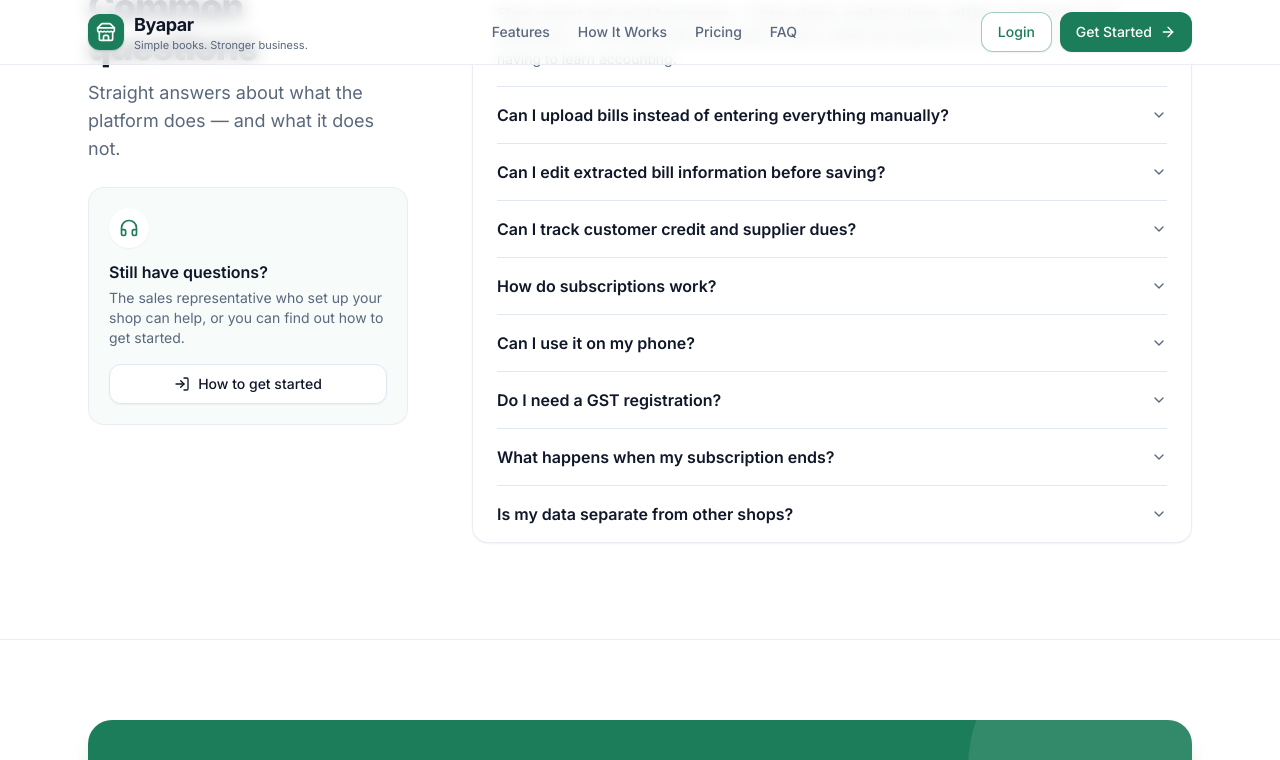
the FAQ accordion › expands an answer, and wires the button to its region
(page scrolled)
Step 1. Click the button "Do I need a GST registration?" → (609, 400), box [497, 372, 1167, 428]
(page scrolled)
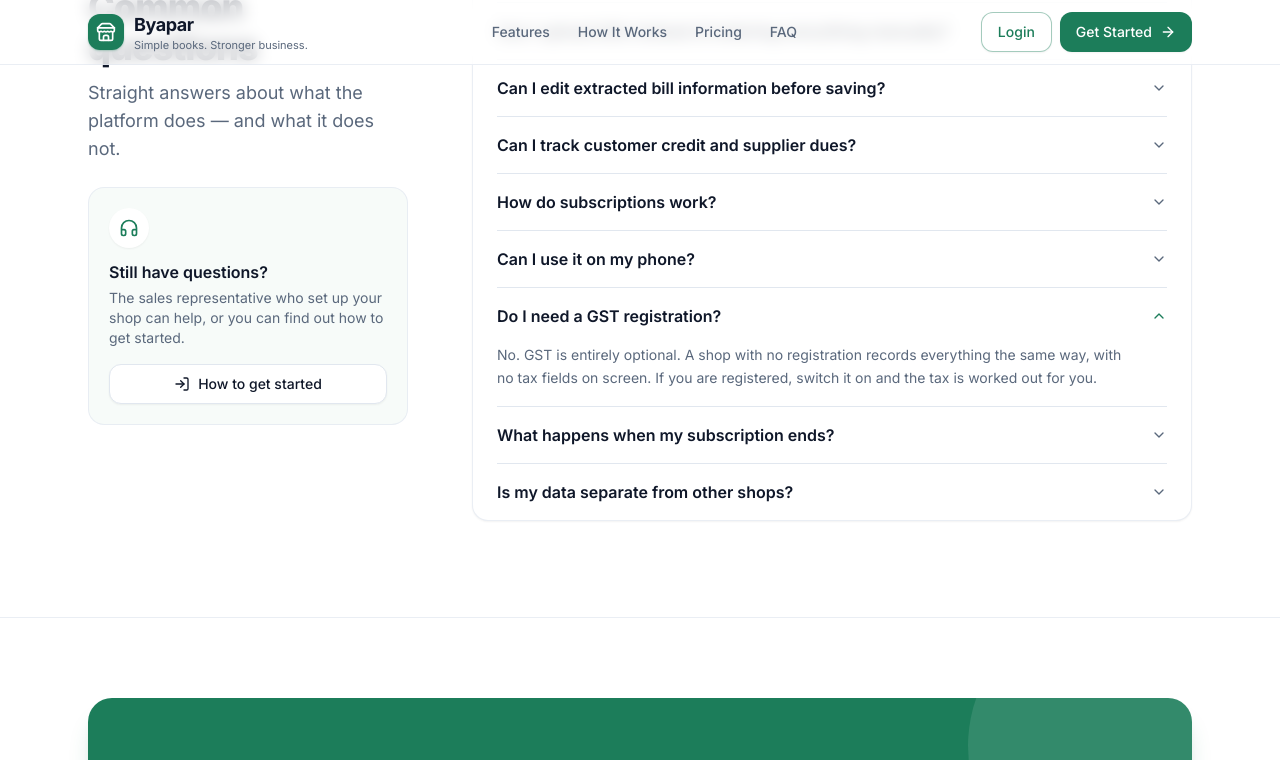
Check: the button "Do I need a GST registration?" is expanded, box [497, 288, 1167, 344]
Check: the text "GST is entirely optional" is shown, box [497, 346, 1121, 386]
